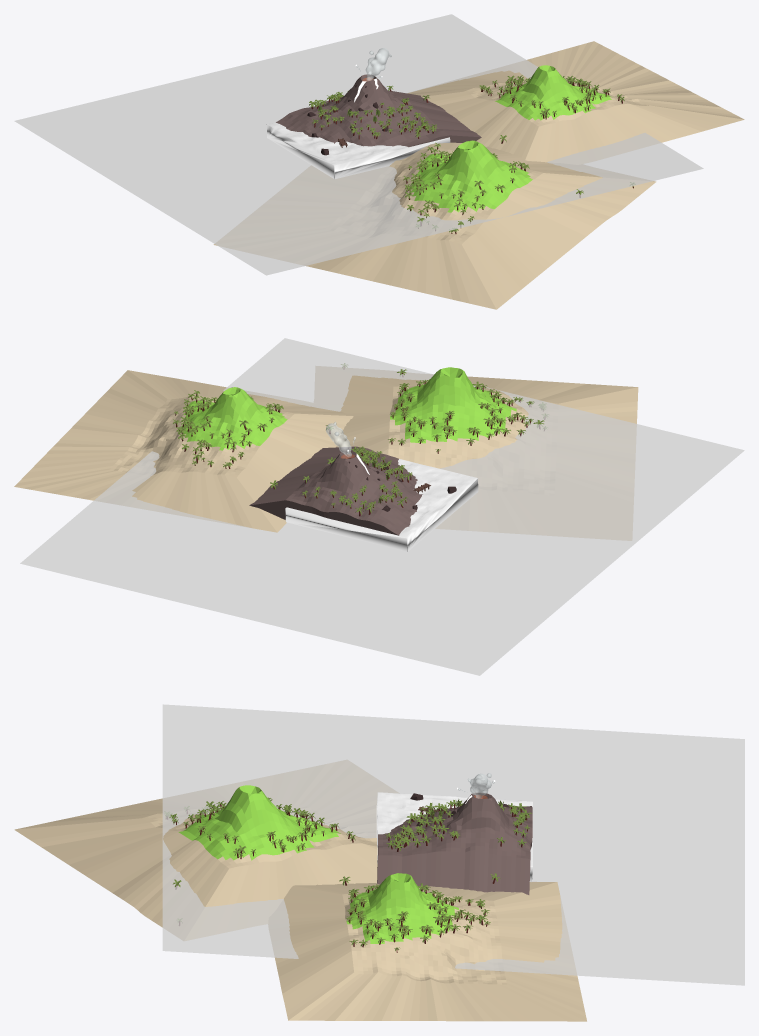
File: peaks.glb
The picture shows the model from 3 angles, top to bottom: view 1: azimuth 30°, elevation 25°; view 2: azimuth 150°, elevation 25°; view 3: azimuth 270°, elevation 25°; orthographic projection. The views are drawn at different scales.
Visible parts, largest first — view 1: Plane.004, Plane.009, Plane.008, Plane.007, Cube.037, Mball.001; view 2: Plane.004, Plane.009, Plane.008, Plane.007, Cube.037; view 3: Plane.004, Plane.008, Plane.009, Plane.007, Cube.037.
Part boxes in pixels (x1,y1,x2,y2): Plane.004: [14, 14, 703, 275]; Plane.009: [213, 140, 656, 309]; Plane.008: [407, 41, 744, 164]; Plane.007: [276, 74, 481, 147]; Cube.037: [266, 122, 450, 179]; Mball.001: [356, 48, 391, 81]; Plane.004: [20, 338, 744, 675]; Plane.009: [314, 366, 638, 540]; Plane.008: [14, 370, 353, 532]; Plane.007: [249, 446, 422, 535]; Cube.037: [285, 459, 478, 551]; Plane.004: [162, 704, 744, 985]; Plane.008: [268, 873, 586, 1021]; Plane.009: [14, 760, 397, 940]; Plane.007: [377, 793, 532, 894]; Cube.037: [376, 792, 532, 882].
Bounding box in the file's own units: 108 × 18.97 × 111.
